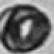correct: (0, 4, 52, 54)
